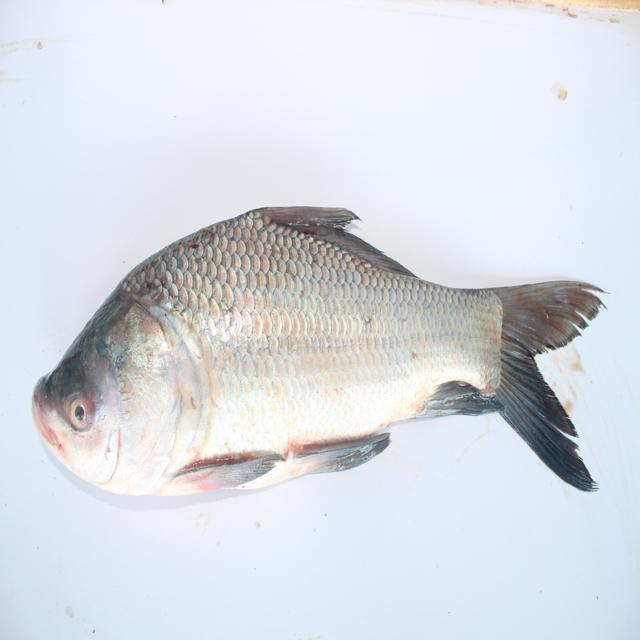Catla: (23, 202, 610, 534)
